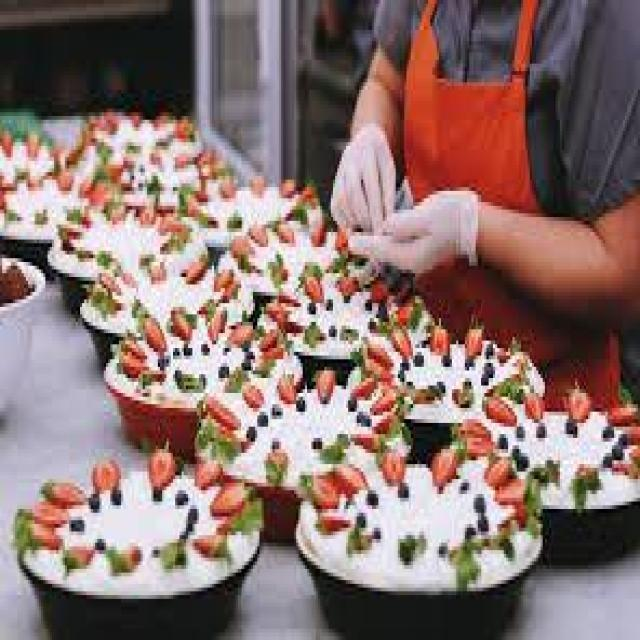apron: (348, 178, 480, 278), (331, 126, 394, 225)
